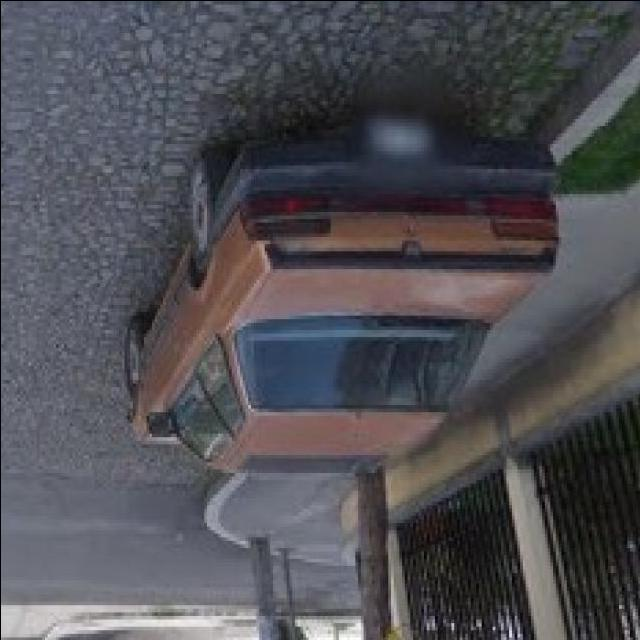car: (123, 120, 555, 462)
